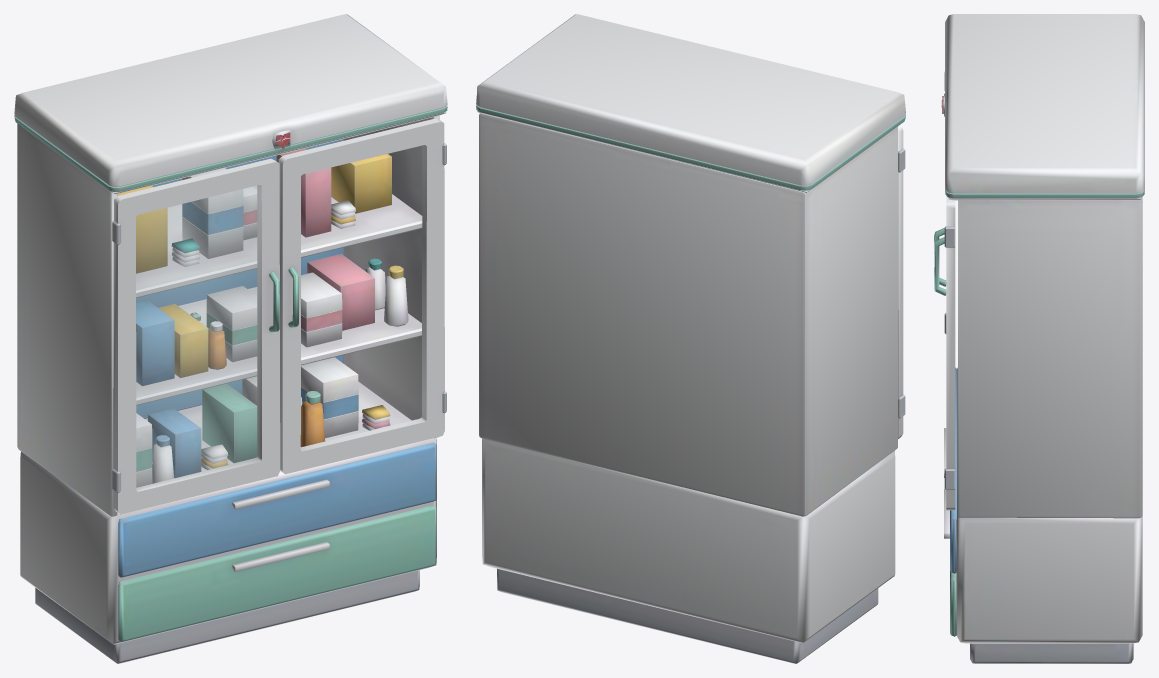
File: medicine-cabinet.glb
The picture shows the model from 3 angles, left to right: view 1: azimuth 30°, elevation 25°; view 2: azimuth 150°, elevation 25°; view 3: azimuth 270°, elevation 25°; orthographic projection. The views are drawn at different scales.
Visible parts, largest first — view 1: medicine-cabinet_body, medicine-cabinet_door_left_glass, medicine-cabinet_door_left, medicine-cabinet_door_right; view 2: medicine-cabinet_body, medicine-cabinet_door_left; view 3: medicine-cabinet_body, medicine-cabinet_door_right.
Part boxes in pixels (x1,y1,x2,y2): medicine-cabinet_body: (14, 14, 447, 663); medicine-cabinet_door_left_glass: (136, 185, 259, 489); medicine-cabinet_door_left: (112, 158, 280, 514); medicine-cabinet_door_right: (278, 118, 446, 474); medicine-cabinet_body: (476, 14, 905, 663); medicine-cabinet_door_left: (898, 125, 905, 439); medicine-cabinet_body: (941, 14, 1144, 663); medicine-cabinet_door_right: (934, 196, 955, 510).
Bounding box in the file's own units: 0.84 × 1.22 × 0.4641.
Materials: 5 (3 with a texture image).
